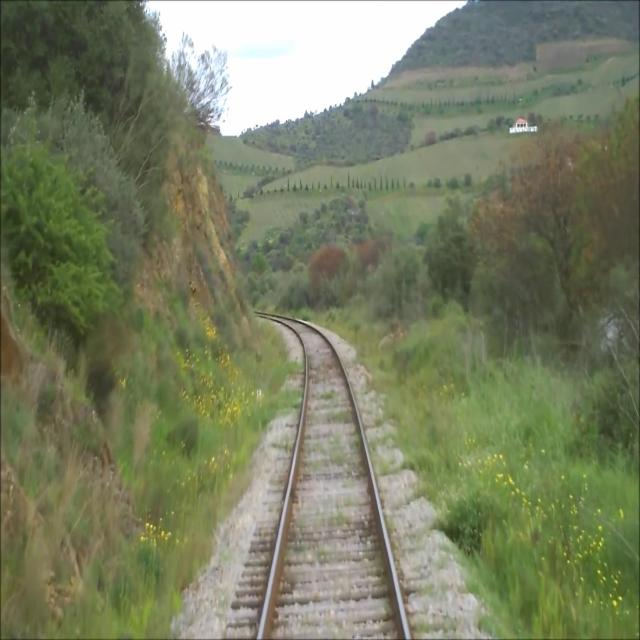rail-track: (260, 320, 406, 639)
